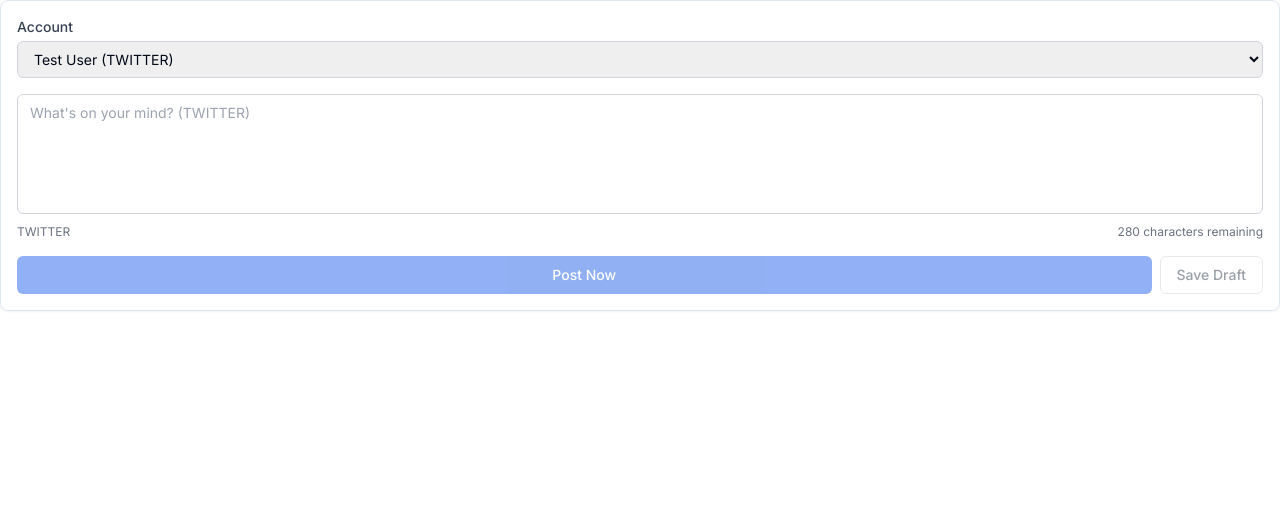
Scenario: PostComposer › should remove hashtag
Click the text box named "Post content" at (640, 154), box [17,94,1263,214]
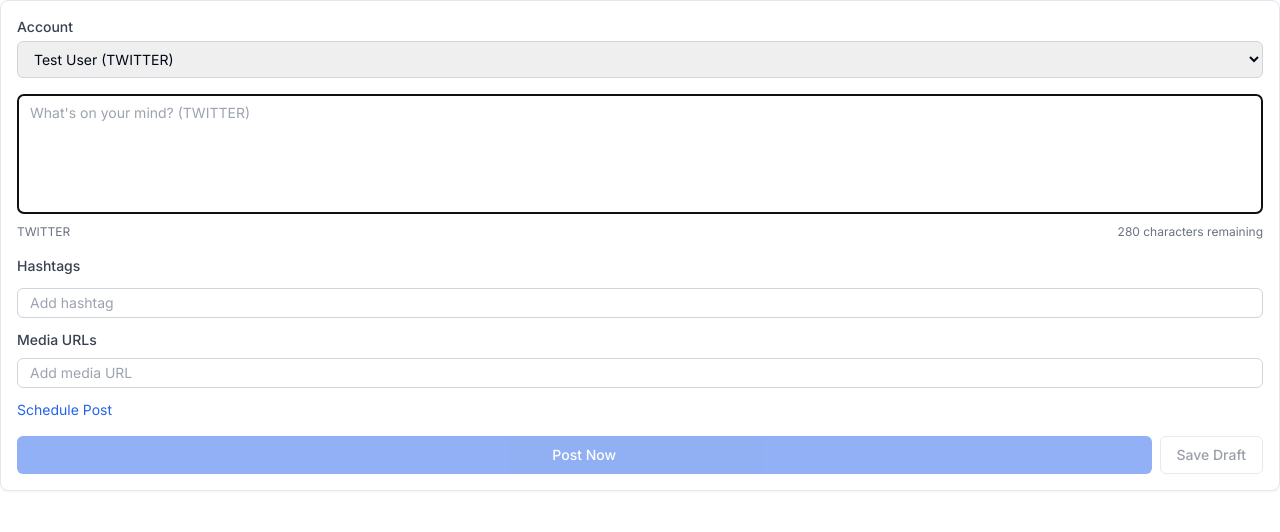
Type "test" into the field with placeholder "Add hashtag" at (640, 303), box [17,288,1263,318]
Then press Enter
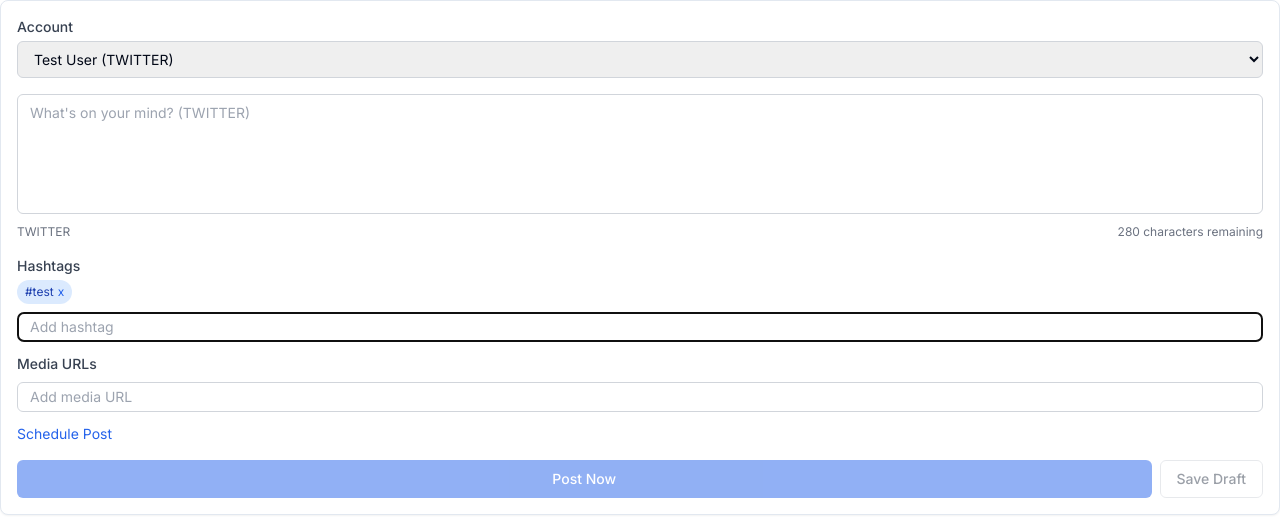
Click the button named "Remove #test" at (61, 292), box [58,284,64,300]
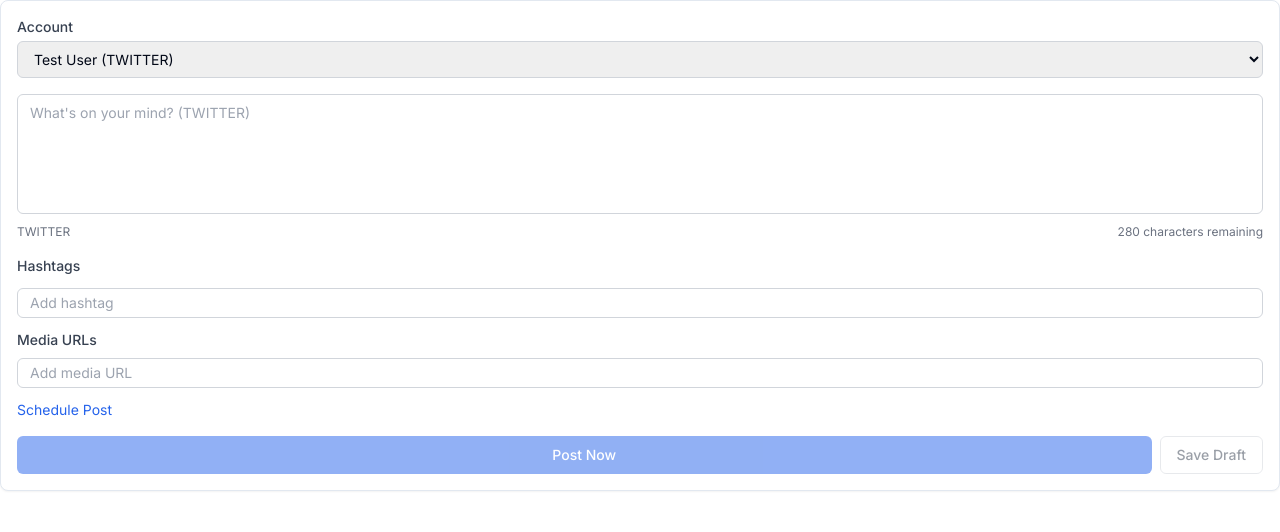
Expected: the text "#test" is gone
